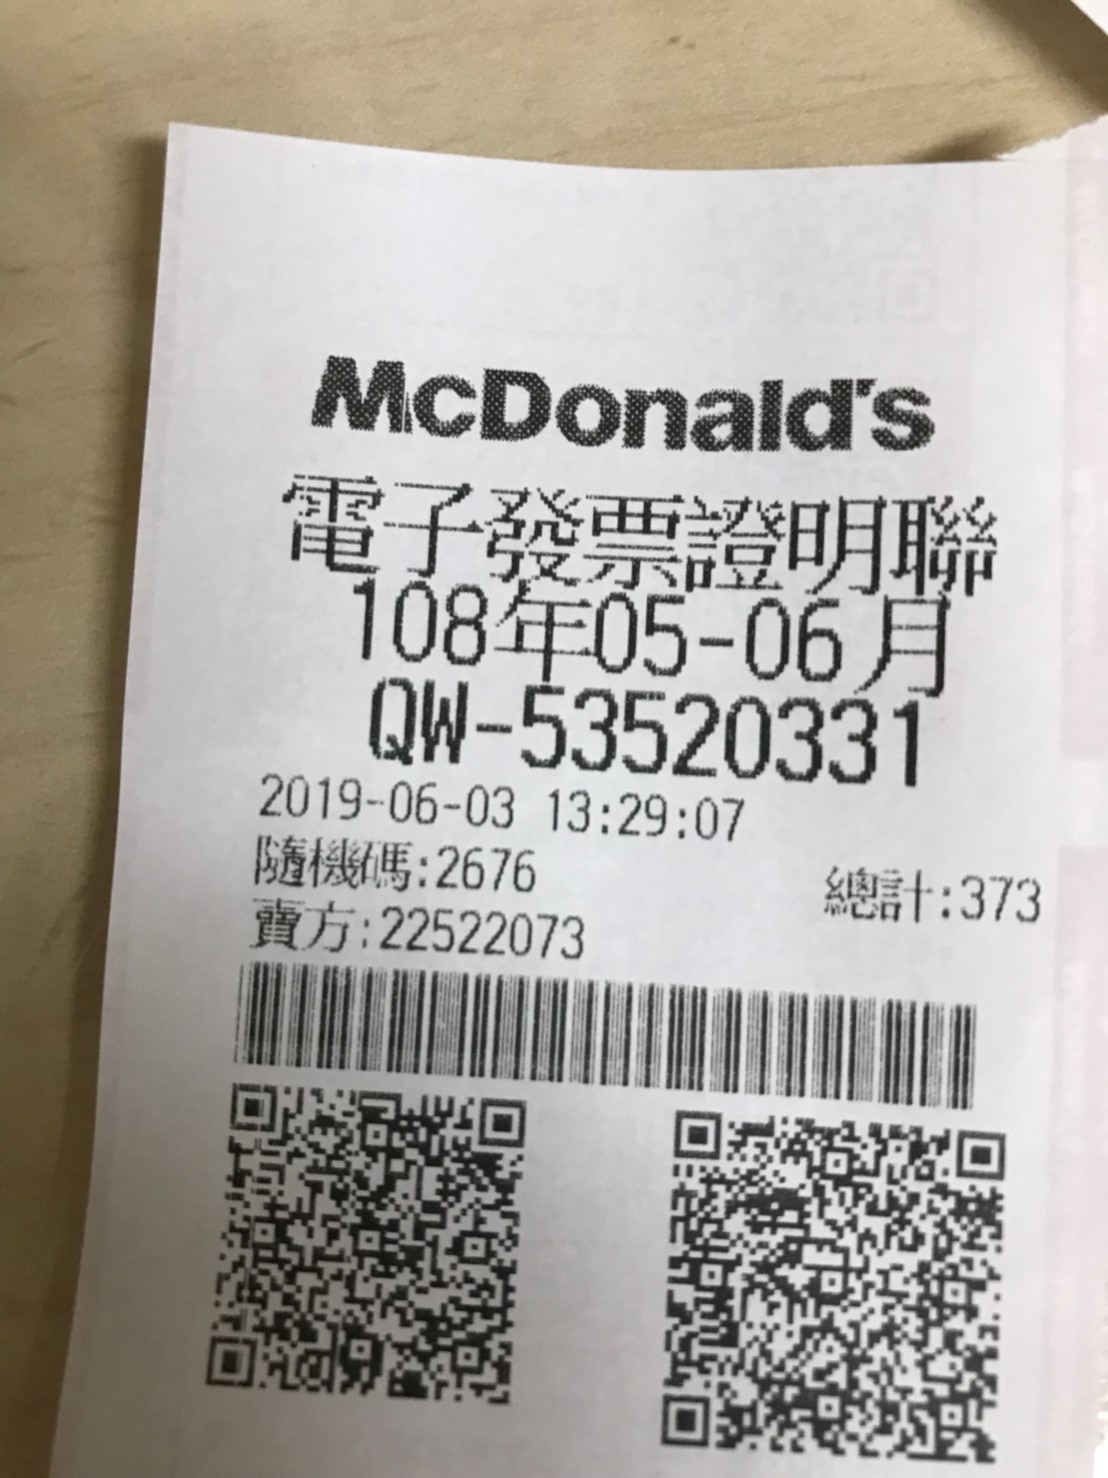Date_New: (351, 574, 952, 701)
Number_New: (521, 678, 928, 788)
